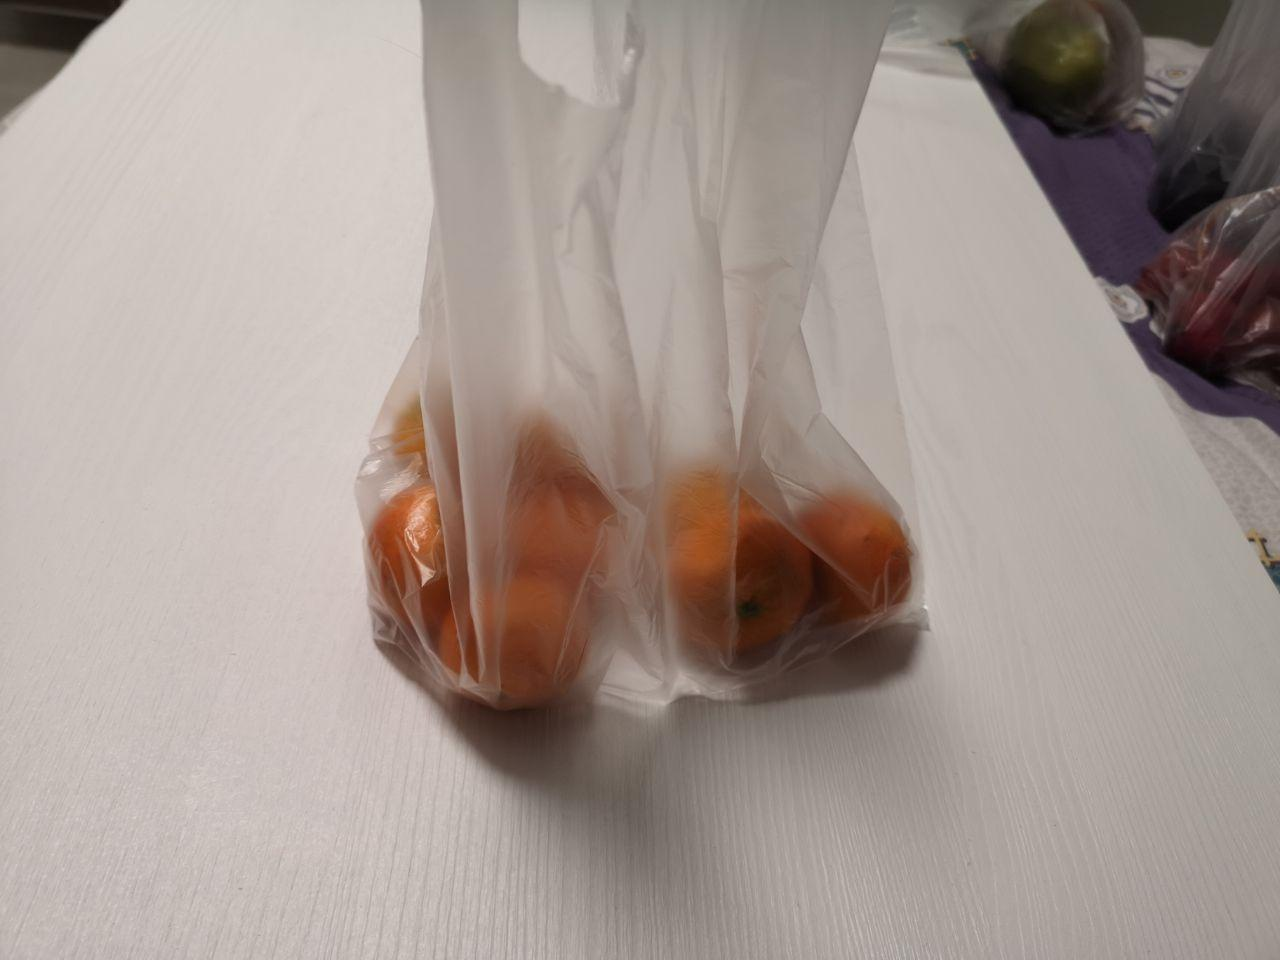clementin: (357, 342, 924, 724)
